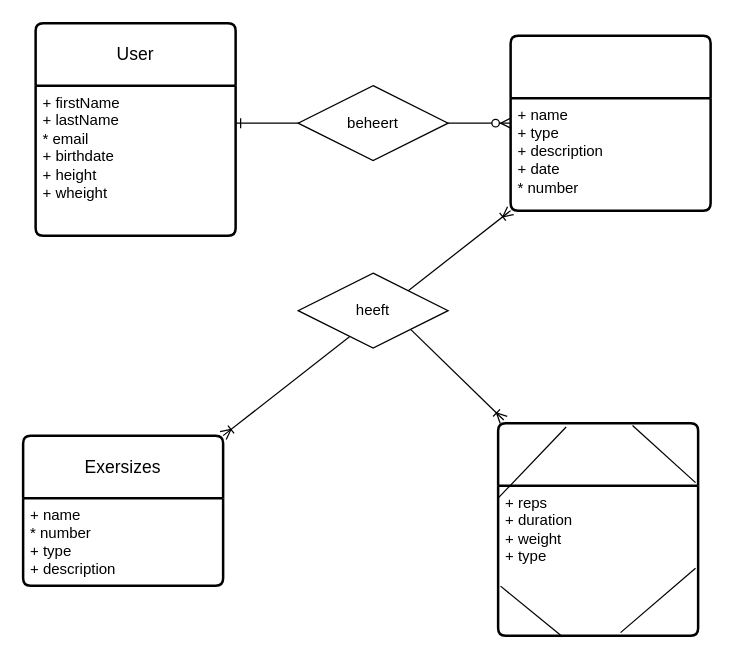
The diagram is 733 pixels wide and 660 high, and some of its shapes have lost their labels. Each missing label, with the box of its shape:
Set: (496, 421, 699, 636)
Workout: (509, 34, 711, 211)
